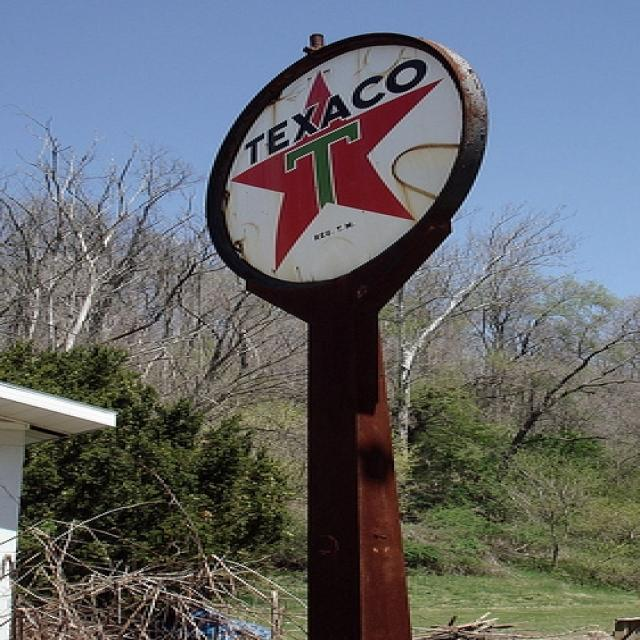texaco: (224, 46, 466, 283)
